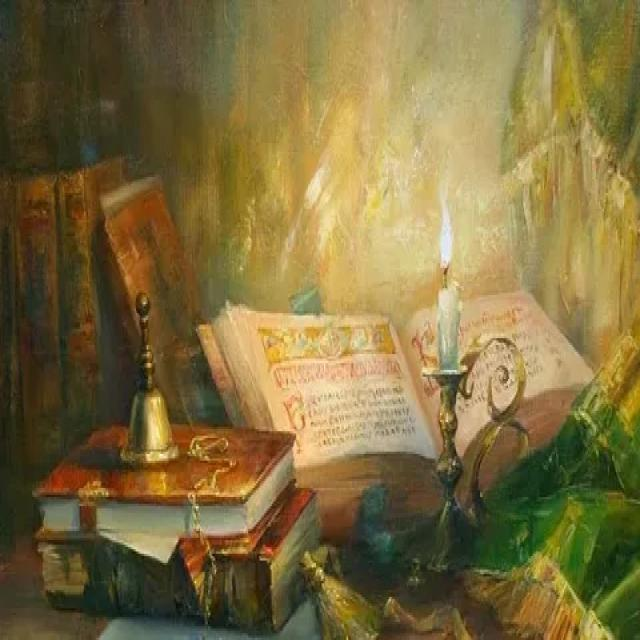book: (202, 268, 606, 516)
